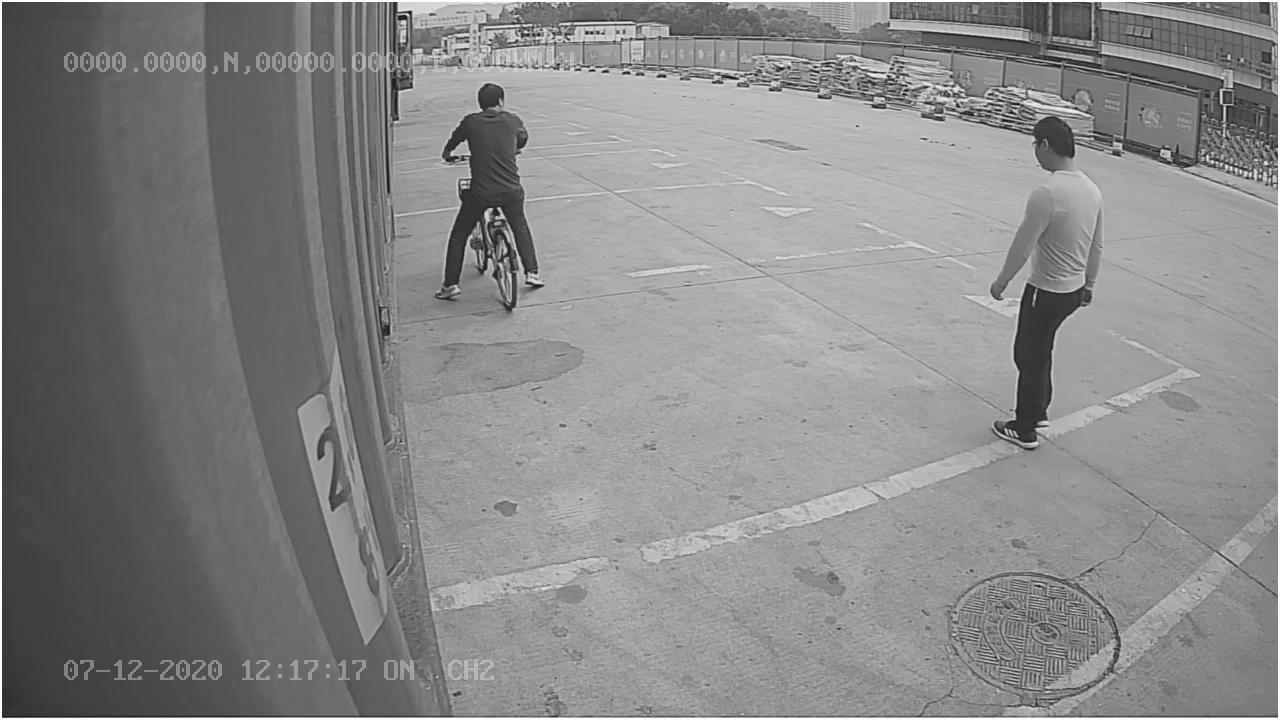person: (989, 112, 1105, 450)
